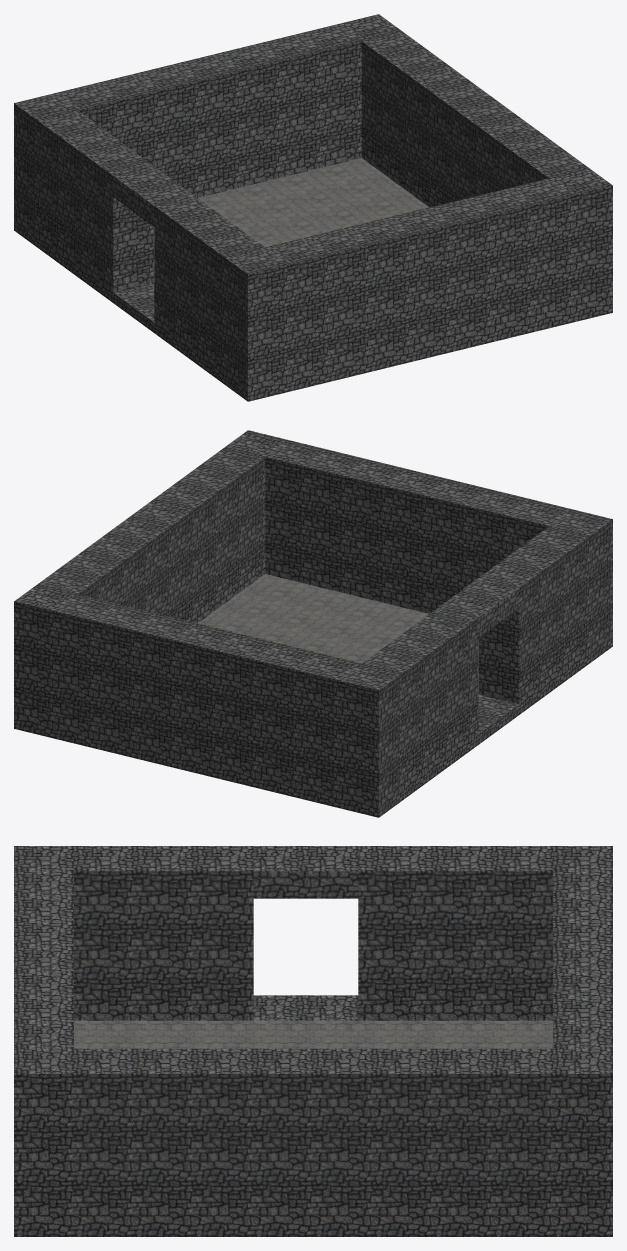
Rendered from TestRoom.unity_13.obj.
3 renders of one model, top to bottom at view 1: azimuth 30°, elevation 25°; view 2: azimuth 150°, elevation 25°; view 3: azimuth 270°, elevation 25°, orthographic. The views are drawn at different scales.
Visible parts, largest first — view 1: UpperWallN, UpperWallS, UpperWallW, UpperWallE, LowerWallN, Floor, LowerWallS, LowerWallE, LowerWallW; view 2: UpperWallS, UpperWallN, UpperWallW, UpperWallE, LowerWallS, Floor, LowerWallE, LowerWallN, LowerWallW; view 3: UpperWallW, UpperWallE, Floor, UpperWallN, UpperWallS, LowerWallW, LowerWallE, LowerWallS, LowerWallN.
Boxes of the visible parts, bbox=[...] form: UpperWallN: bbox=[224, 168, 612, 359]; UpperWallS: bbox=[14, 15, 393, 204]; UpperWallW: bbox=[339, 14, 612, 316]; UpperWallE: bbox=[37, 110, 264, 384]; LowerWallN: bbox=[224, 272, 612, 401]; Floor: bbox=[113, 158, 428, 332]; LowerWallS: bbox=[14, 126, 361, 246]; LowerWallE: bbox=[37, 205, 224, 383]; LowerWallW: bbox=[361, 126, 612, 315]; UpperWallS: bbox=[14, 584, 402, 775]; UpperWallN: bbox=[228, 430, 612, 620]; UpperWallW: bbox=[14, 430, 287, 738]; UpperWallE: bbox=[362, 526, 589, 799]; LowerWallS: bbox=[14, 686, 402, 817]; Floor: bbox=[198, 574, 519, 744]; LowerWallE: bbox=[402, 622, 589, 800]; LowerWallN: bbox=[265, 542, 612, 662]; LowerWallW: bbox=[14, 546, 265, 736]; UpperWallW: bbox=[14, 1048, 612, 1236]; UpperWallE: bbox=[74, 846, 552, 1020]; Floor: bbox=[74, 995, 552, 1048]; UpperWallN: bbox=[14, 846, 73, 1182]; UpperWallS: bbox=[553, 846, 612, 1182]; LowerWallW: bbox=[14, 1182, 612, 1236]; LowerWallE: bbox=[74, 980, 552, 1020]; LowerWallS: bbox=[553, 1182, 612, 1236]; LowerWallN: bbox=[14, 1182, 73, 1236].
Bounding box in the file's own units: 9 × 3 × 10.
2 materials, 2 textured.
